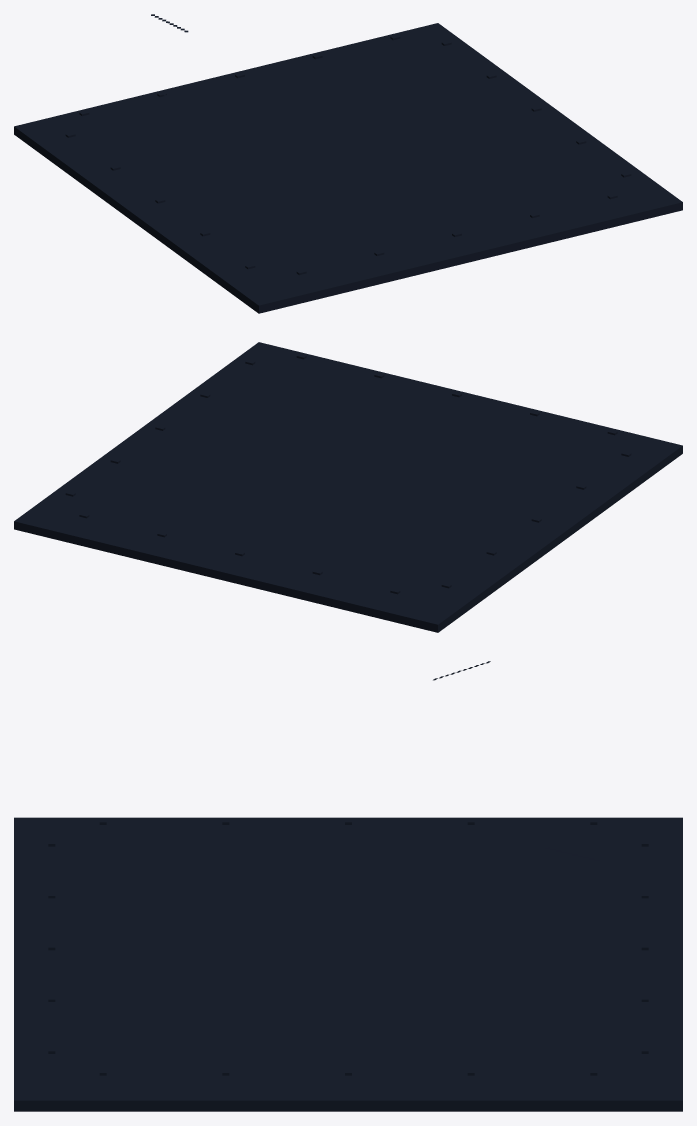
File: circuit-part-7.glb
3 views of the same model, one above another, from view 1: azimuth 30°, elevation 25°; view 2: azimuth 150°, elevation 25°; view 3: azimuth 270°, elevation 25° (orthographic). The views are drawn at different scales.
Parts seen in each view (by area): view 1: track-part-0; view 2: track-part-0; view 3: track-part-0.
Part boxes in pixels (x1=…): track-part-0: x1=14, y1=14, x2=682, y2=313; track-part-0: x1=14, y1=342, x2=682, y2=632; track-part-0: x1=14, y1=661, x2=682, y2=1111.
Size of the model in its own units: 30 by 10.5 by 30.
